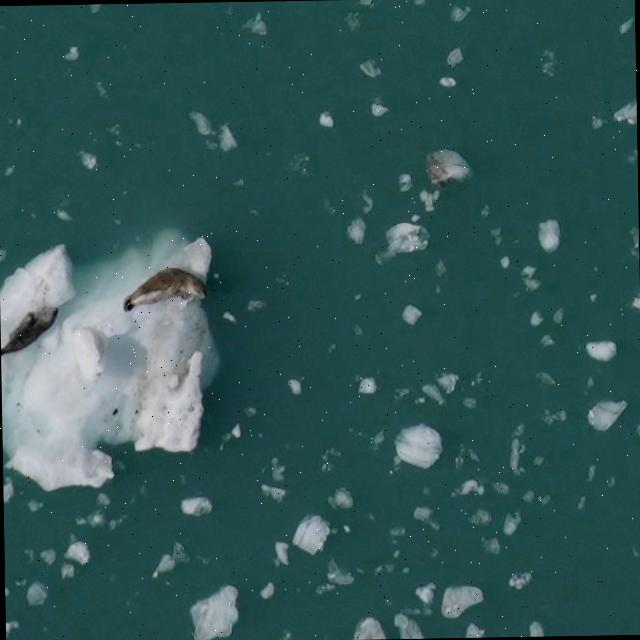seal: (117, 264, 209, 314), (0, 296, 62, 366)
